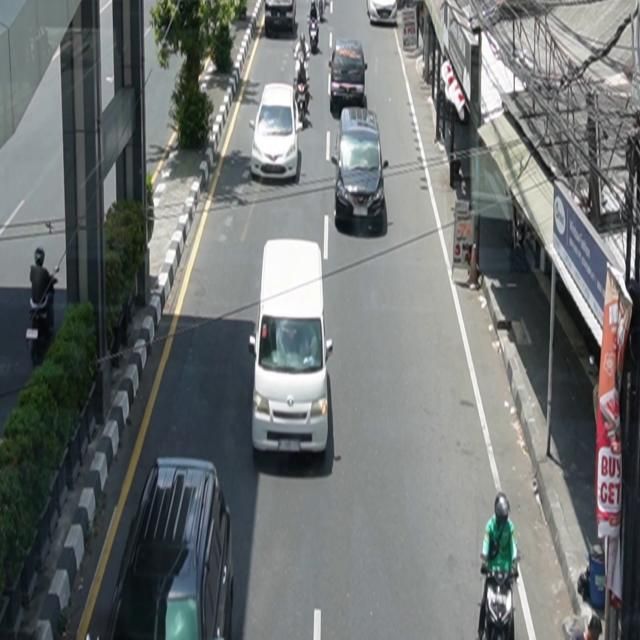car: (105, 457, 236, 640), (249, 239, 334, 456), (332, 106, 389, 228), (250, 83, 304, 183), (330, 39, 369, 112), (265, 1, 297, 38), (367, 1, 398, 26)
